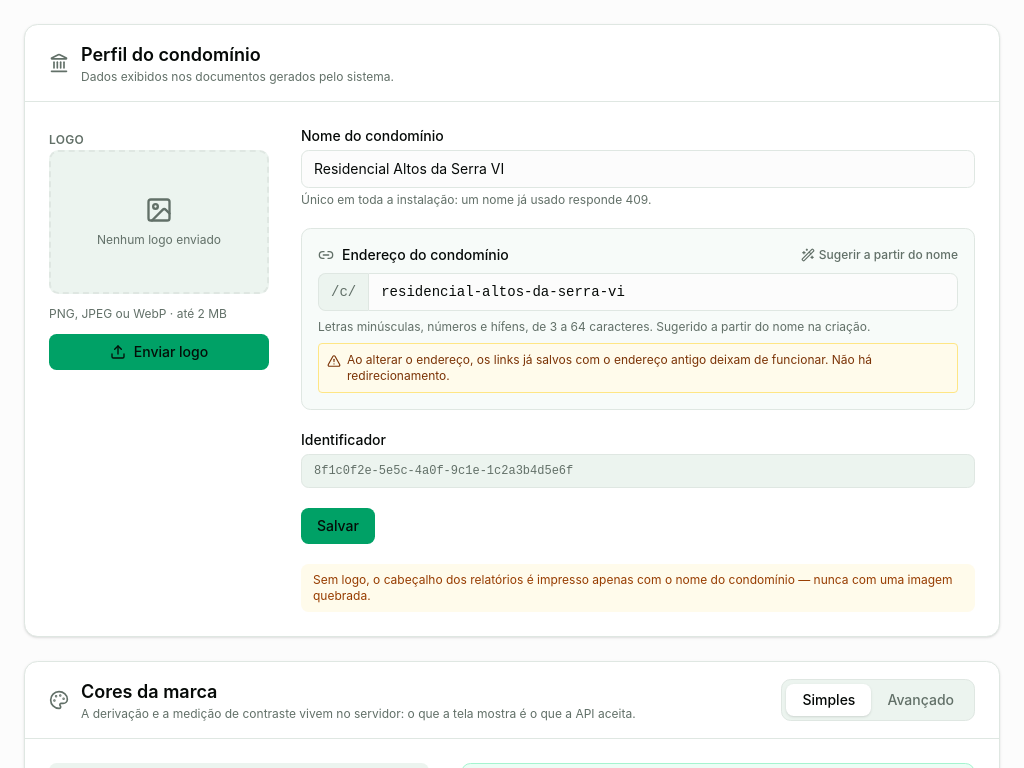
TenantProfilePage › shows a translated message when the new name is already taken (409)
Replace the text in the field showing "Residencial Altos da Serra VI" with "Condomínio B": (638,169) [301,150,975,188]
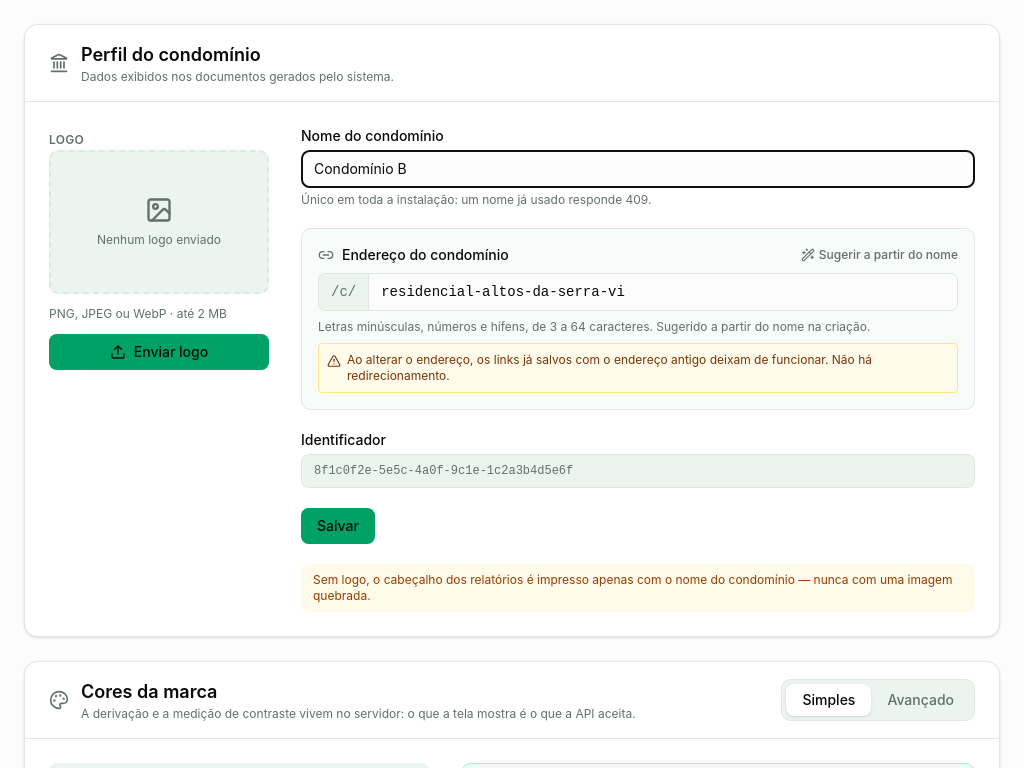
Click the button "Salvar": (338,526) [301,508,375,544]
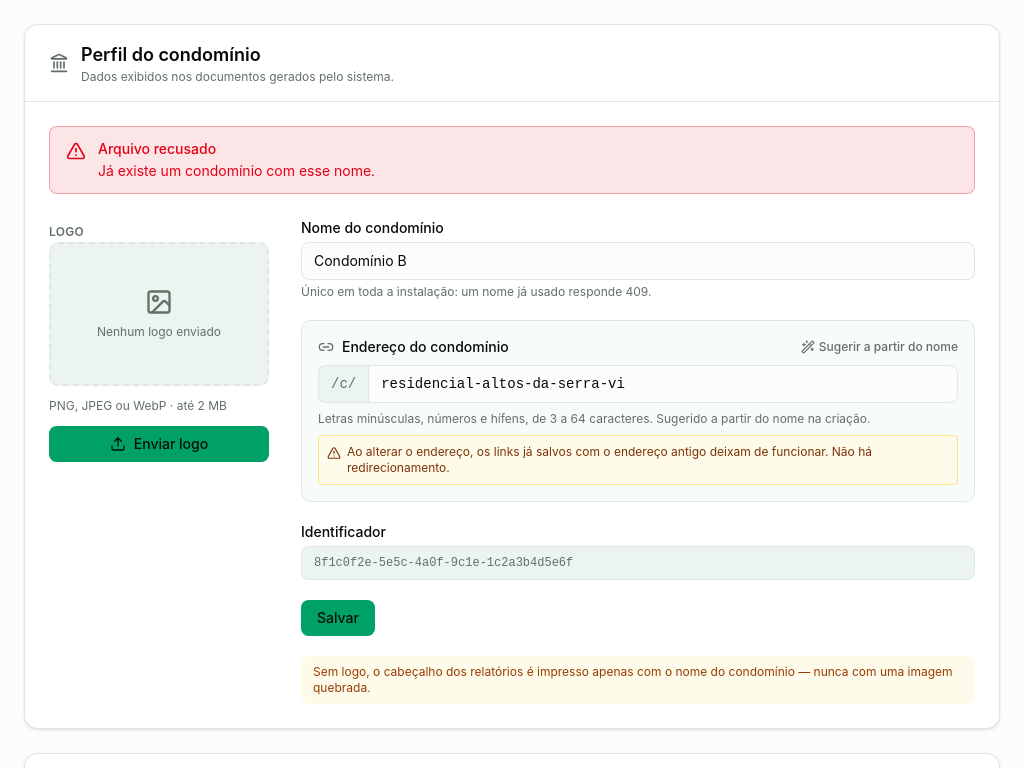
Now the text "Já existe um condomínio com esse nome." is shown, box [98,161,375,181]
